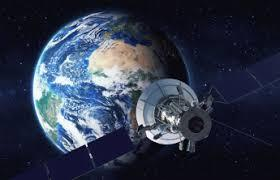antenna: (138, 77, 198, 146)
body: (161, 99, 206, 139)
solar: (8, 126, 136, 180), (206, 47, 280, 105)
thruster: (186, 139, 197, 155)
